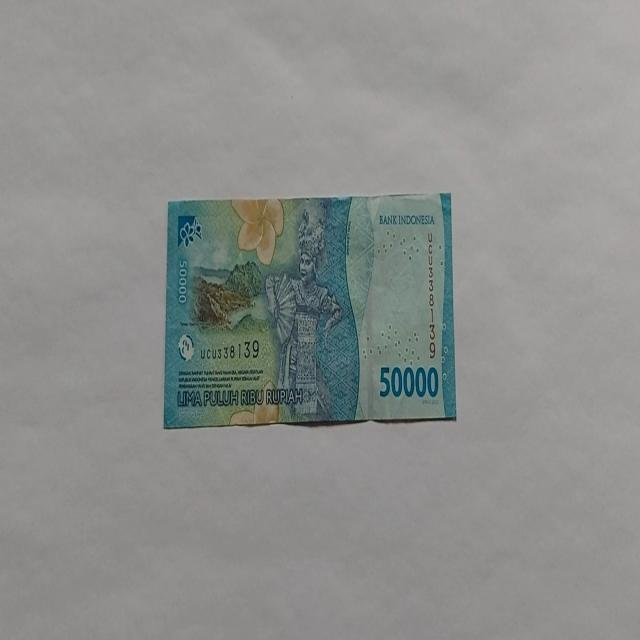lima puluh ribu rupiah: (162, 191, 456, 429)
